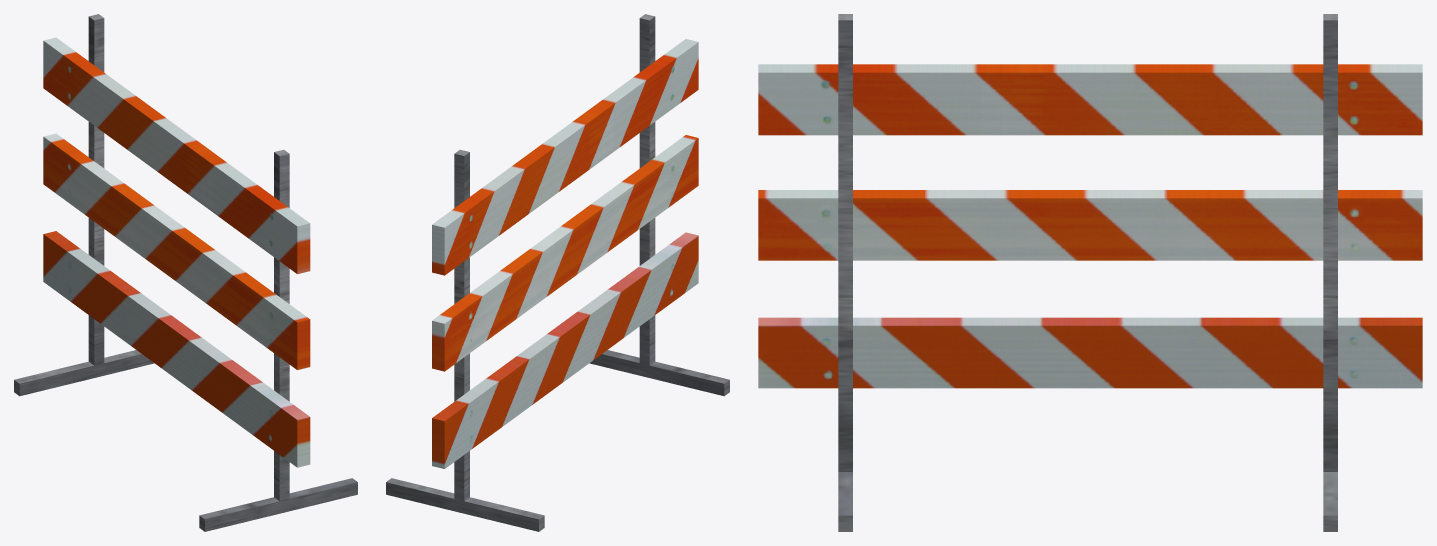
Rendered from road-baricade.fbx.
The picture shows the model from 3 angles, left to right: view 1: azimuth 30°, elevation 25°; view 2: azimuth 150°, elevation 25°; view 3: azimuth 270°, elevation 25°; orthographic projection. The views are drawn at different scales.
Parts seen in each view (by area): view 1: Plane.060; view 2: Plane.060; view 3: Plane.060.
Boxes of the visible parts, x1,y1,x2,y2 form: Plane.060: (14,14,357,531); Plane.060: (386,14,729,531); Plane.060: (758,14,1422,531).
Size of the model in its own units: 105 by 234 by 302.
